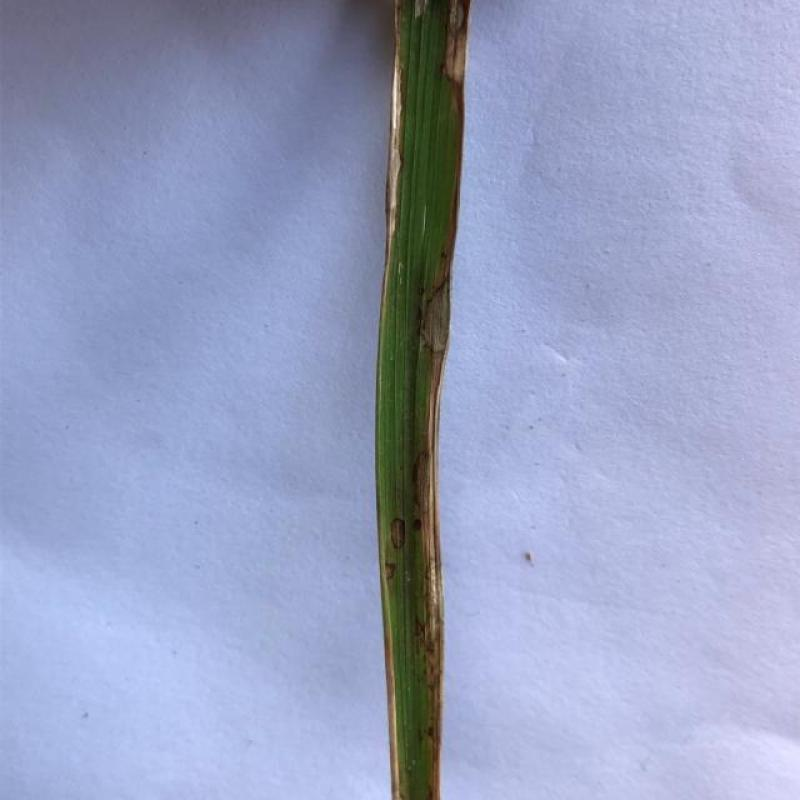Bacterial_Leaf_Blight: (418, 370, 442, 800), (386, 0, 406, 300), (405, 256, 455, 364), (440, 0, 468, 95)
